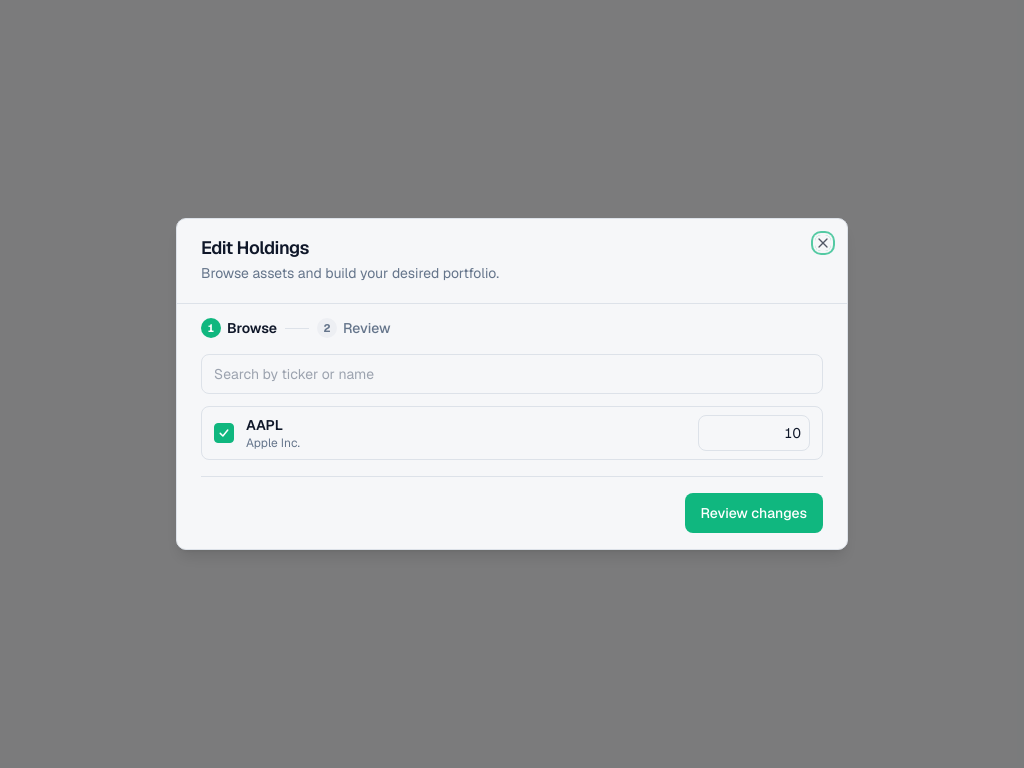
Test case: AssetPicker — Review changes is blocked while the draft is invalid (review-fix) › disables Review changes while a drafted quantity is malformed
Expected: the button "Review changes" is enabled, [684,493,823,533]
Replace the text in the field named "AAPL quantity" with "abc" at (754, 433), box [698,415,810,451]
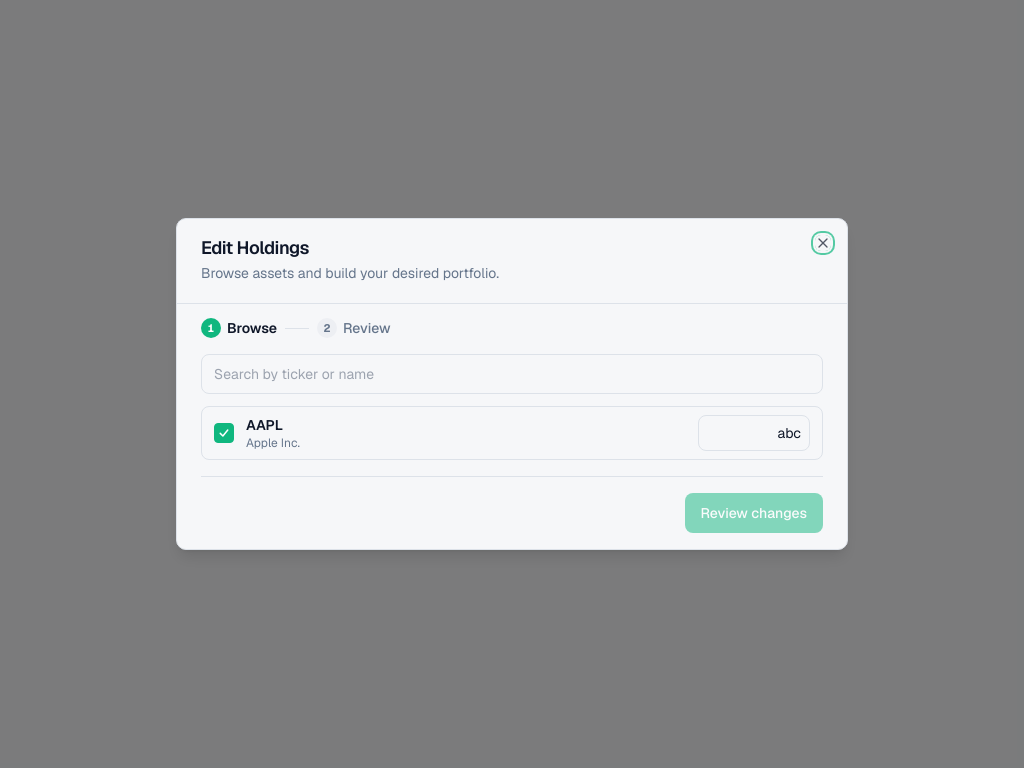
Now the button "Review changes" is disabled, box [684,493,823,533]
